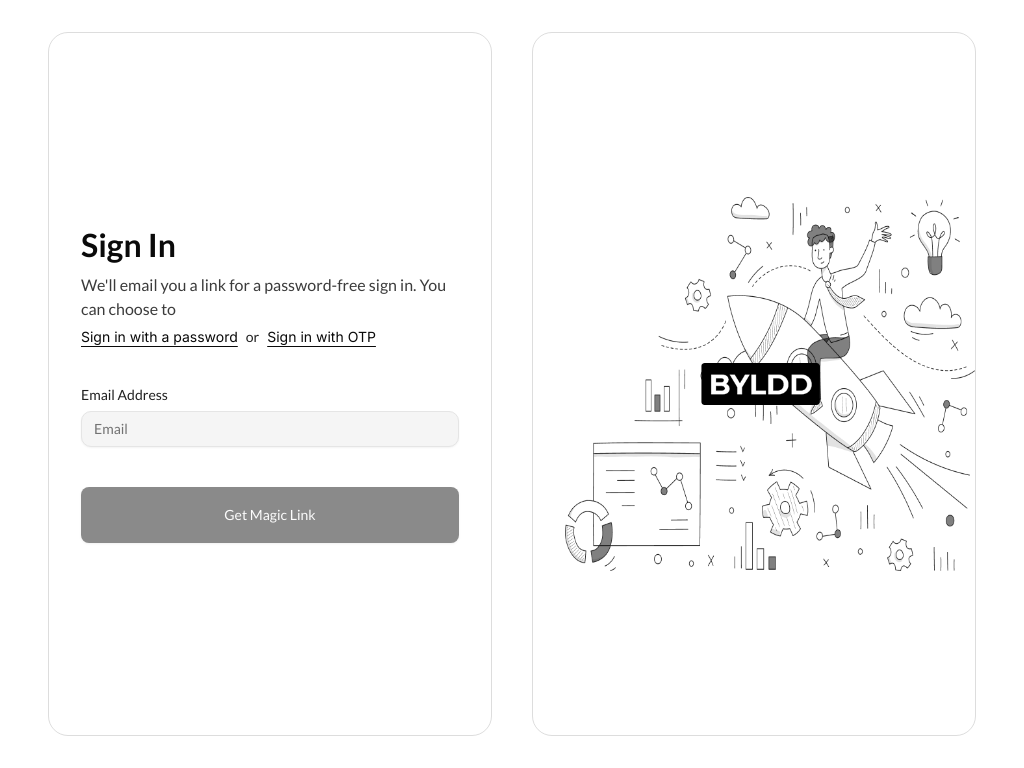
Test case: RequestMagicLinkForm template › falls back to the generic message when the API is unreachable
The width and height of the screenshot is (1024, 768).
Type "user@x.test" into the field labelled "Email Address" at (270, 429), box [81,411,459,447]
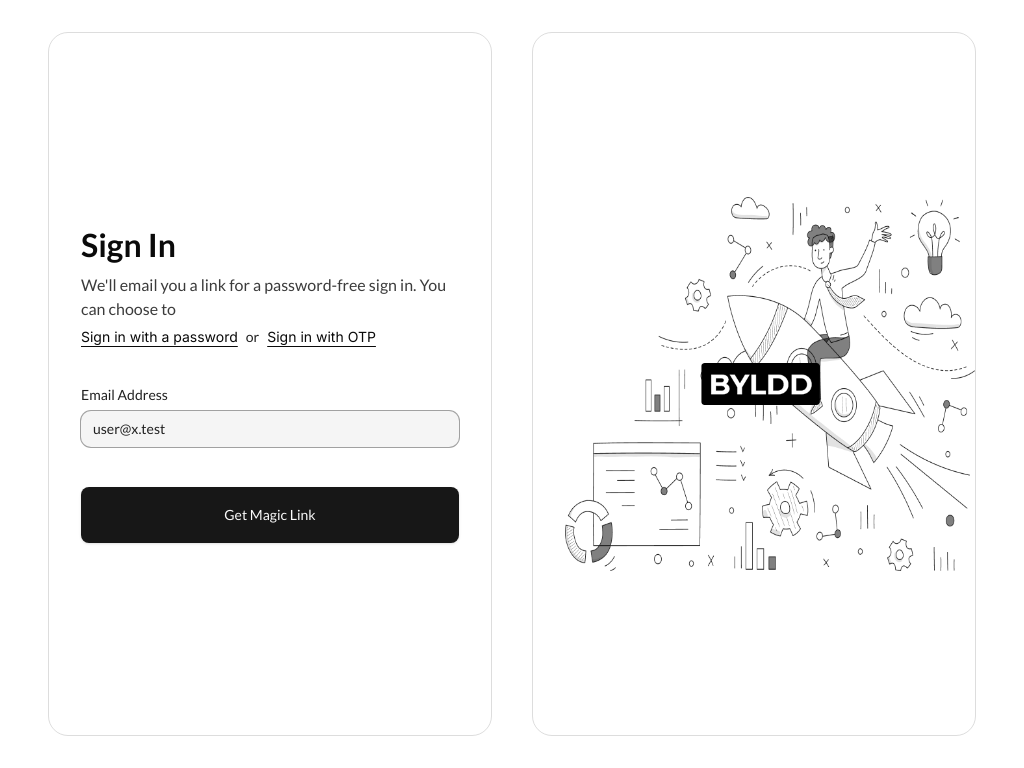
Click the button at (270, 515), box [81,487,459,543]
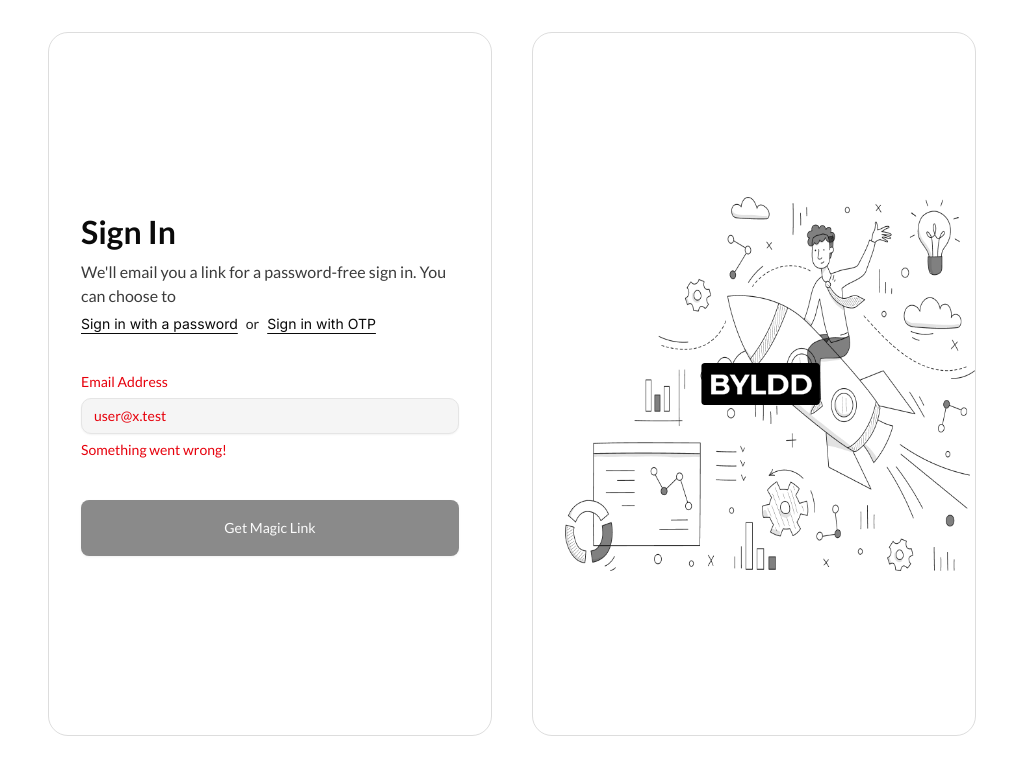
Expected: the text "Something went wrong!" is shown, [81,441,227,458]
